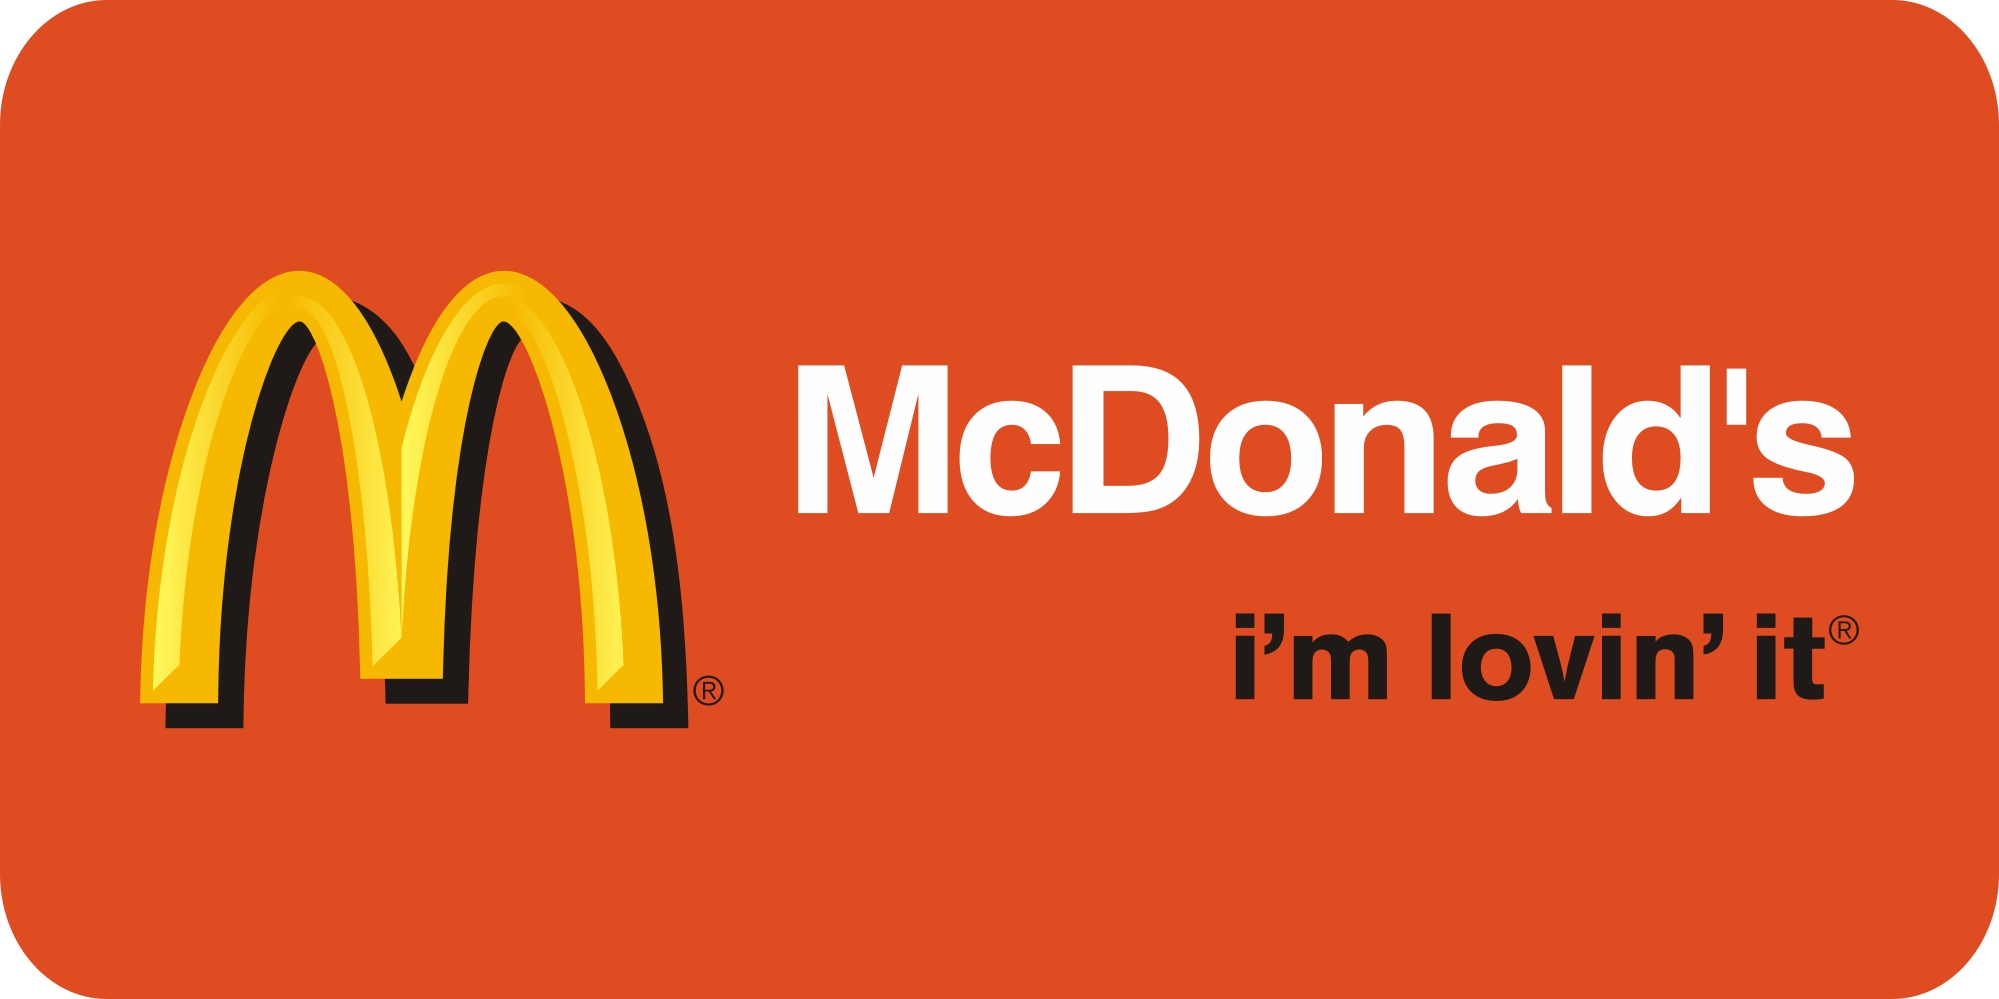mcdonalds: (127, 268, 676, 706)
